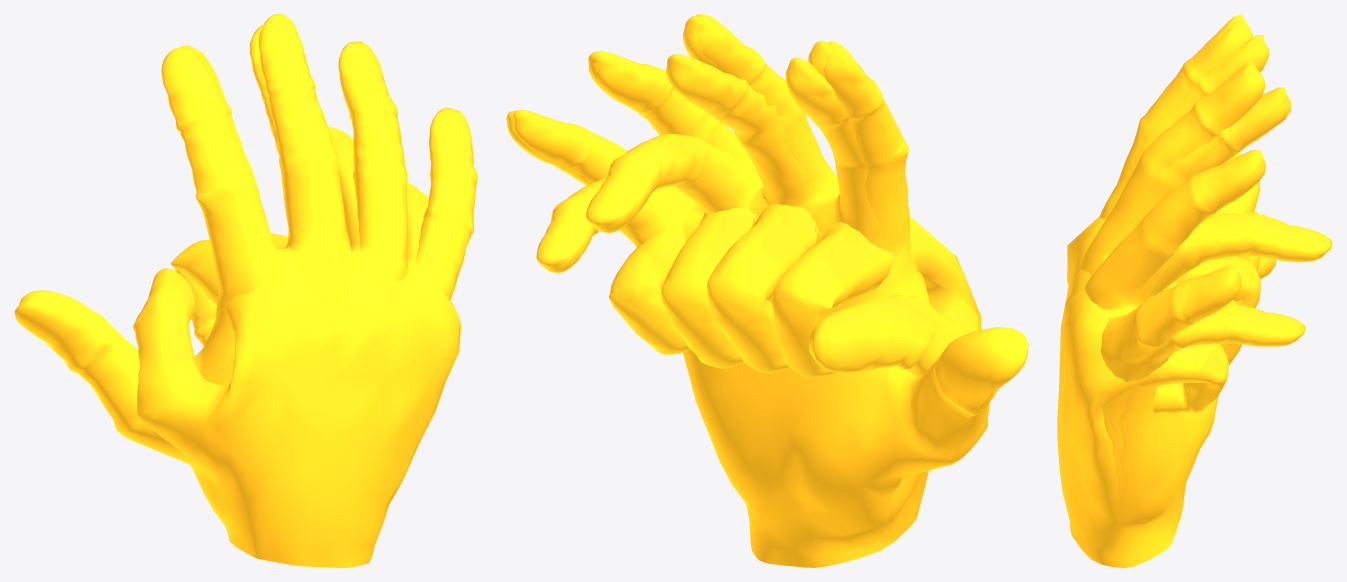
File: ghost-hand-dj.glb
3 views of the same model, side by side, from view 1: azimuth 30°, elevation 25°; view 2: azimuth 150°, elevation 25°; view 3: azimuth 270°, elevation 25° (orthographic). The views are drawn at different scales.
Visible parts, largest first — view 1: DJHand_Fist, DJHand_Open, DJHand_Scratch, DJHand_Fader; view 2: DJHand_Fist, DJHand_Fader, DJHand_Open, DJHand_Scratch; view 3: DJHand_Scratch, DJHand_Fist, DJHand_Fader, DJHand_Open.
Part boxes in pixels (bbox=[...]): DJHand_Fist: bbox=[133, 233, 460, 567]; DJHand_Open: bbox=[14, 14, 477, 567]; DJHand_Scratch: bbox=[15, 14, 462, 567]; DJHand_Fader: bbox=[14, 25, 428, 567]; DJHand_Fist: bbox=[609, 203, 981, 564]; DJHand_Fader: bbox=[536, 54, 1027, 562]; DJHand_Open: bbox=[506, 14, 1028, 567]; DJHand_Scratch: bbox=[513, 16, 1027, 567]; DJHand_Scratch: bbox=[1070, 18, 1265, 567]; DJHand_Fist: bbox=[1057, 216, 1275, 567]; DJHand_Fader: bbox=[1074, 34, 1332, 565]; DJHand_Open: bbox=[1070, 14, 1264, 567].
Bounding box in the file's own units: 0.1743 × 0.1861 × 0.0937.
